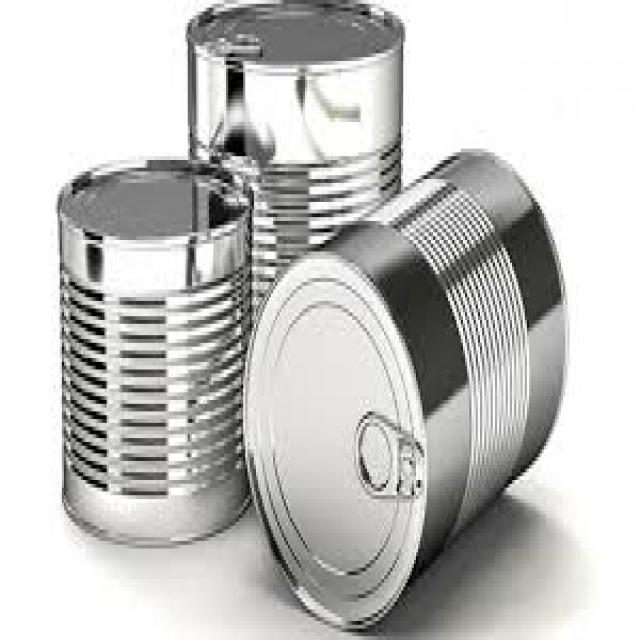recyclable: (240, 146, 570, 635), (55, 154, 256, 547), (186, 0, 405, 328)
